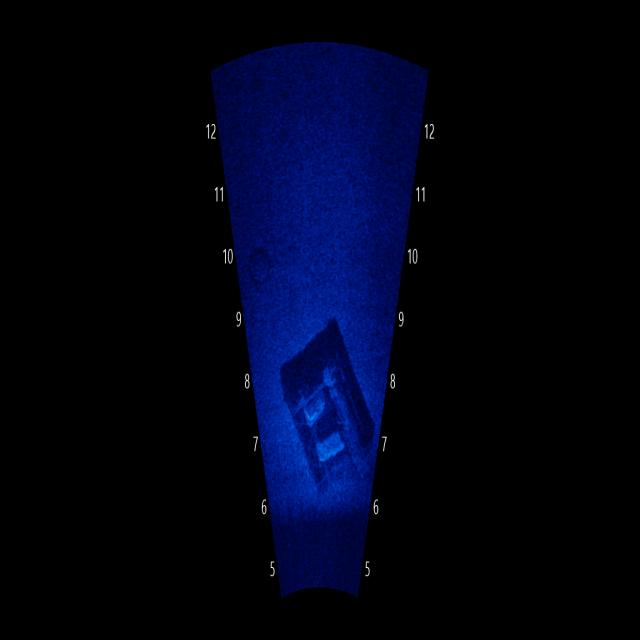square: (278, 308, 380, 516)
